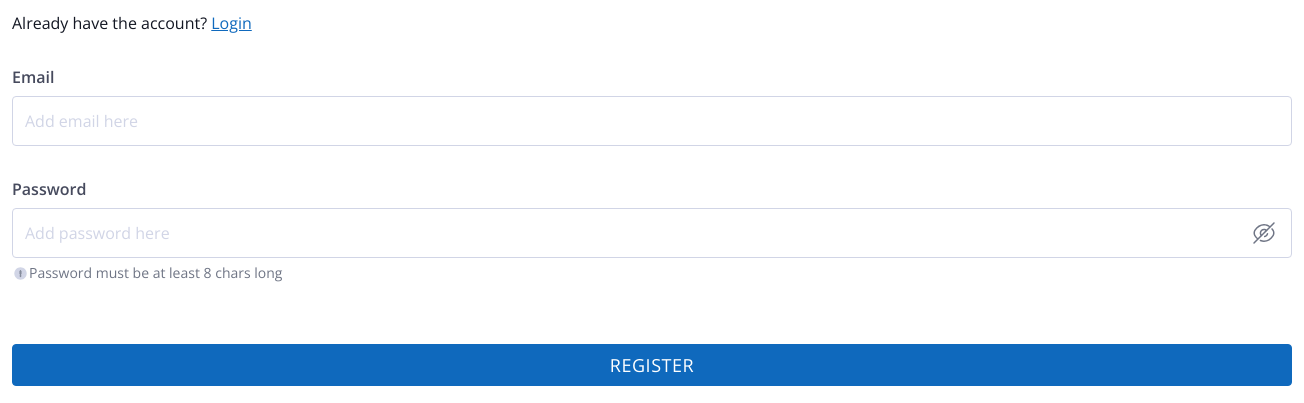
Test case: SignUpForm › should display min length error when password is invalid
In the field: (652, 121) [12,96,1292,146], type "test@mail.com"
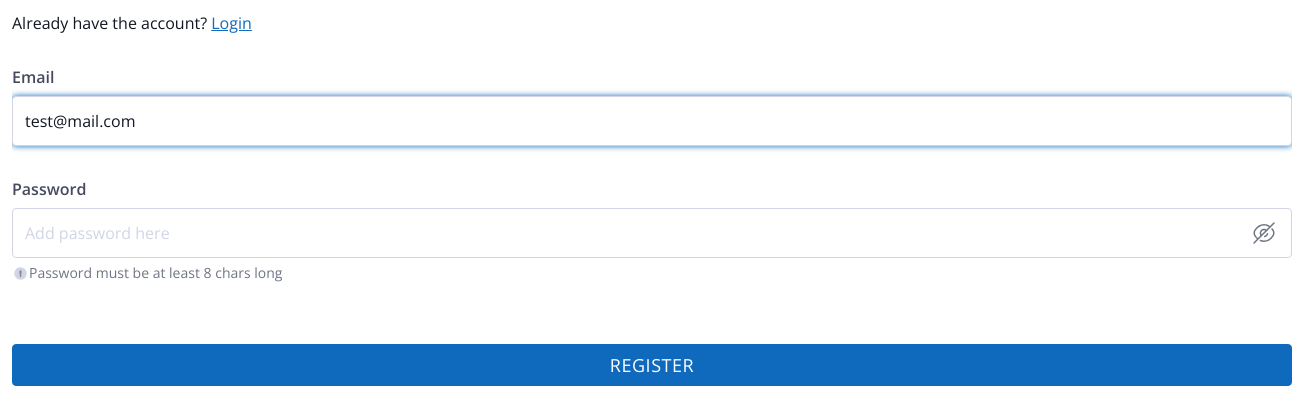
In the password field: (652, 233) [12,208,1292,258], type "pass"
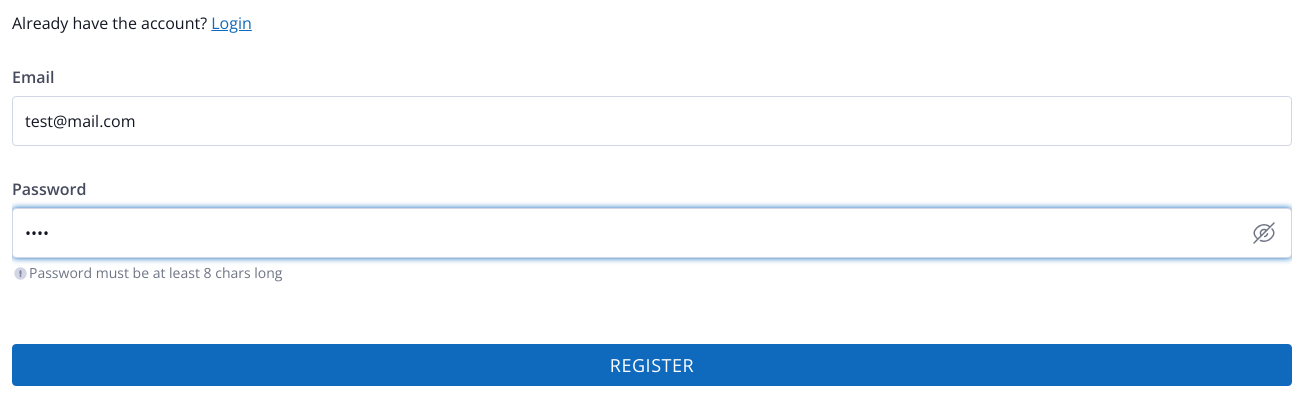
Submit the form from the button "Register", box [12,344,1292,386]
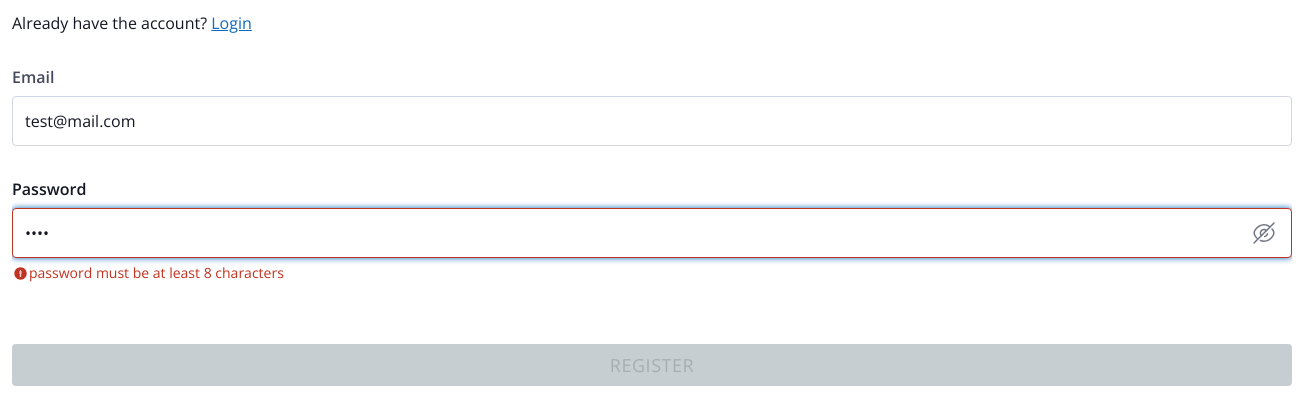
Expected: the number of messages is 1, [27,260,286,286]
Now the text "password must be at least 8 characters" is shown, box [27,260,286,286]
Now the button "Register" is disabled, box [12,344,1292,386]
